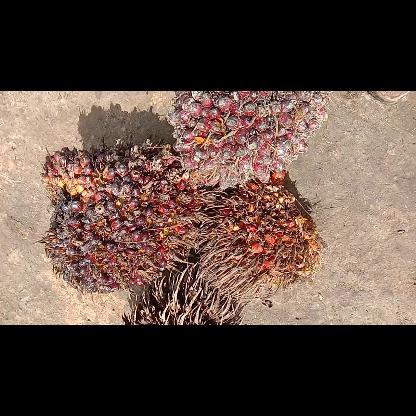Janjang kosong: (127, 268, 249, 324)
Kurang masak: (166, 91, 330, 189)
TBS masak: (36, 137, 209, 294)
Terlalu masak: (195, 170, 325, 300)
